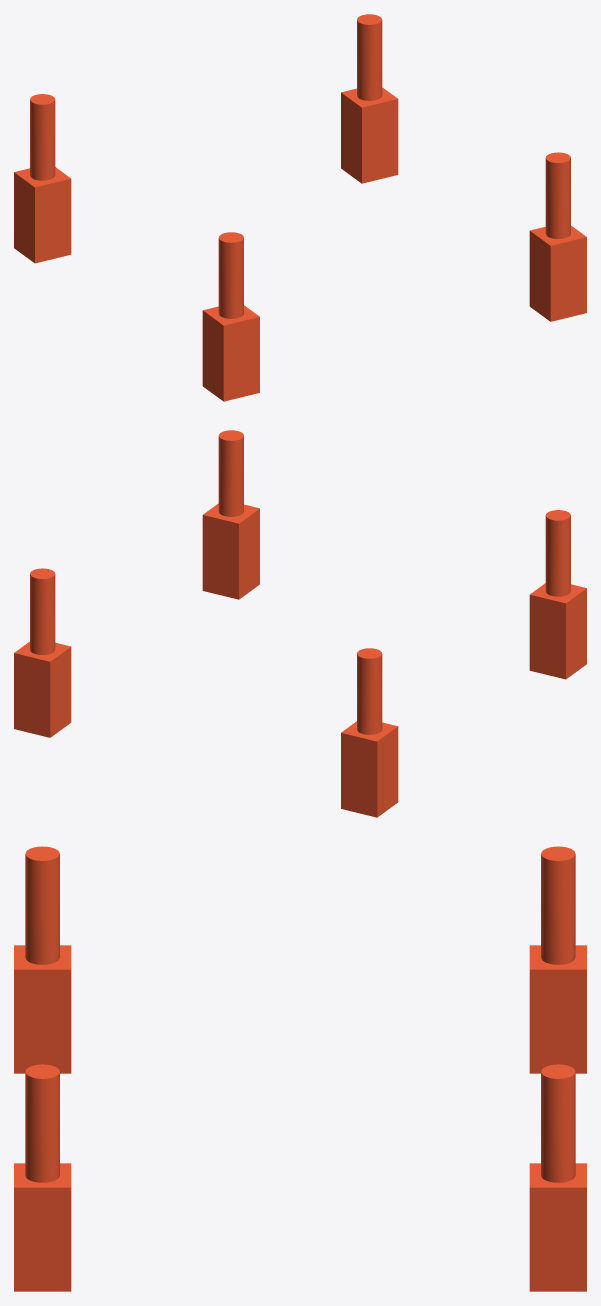
Rendered from track_corner_decor.fbx.
3 renders of one model, top to bottom at view 1: azimuth 30°, elevation 25°; view 2: azimuth 150°, elevation 25°; view 3: azimuth 270°, elevation 25°, orthographic. The views are drawn at different scales.
Visible parts, largest first — view 1: supports_37; view 2: supports_37; view 3: supports_37.
Boxes of the visible parts, left/top/right/bottom form: supports_37: left=14, top=14, right=586, bottom=401; supports_37: left=14, top=430, right=586, bottom=817; supports_37: left=14, top=846, right=586, bottom=1291.
Bounding box in the file's own units: 10 × 4 × 10.
